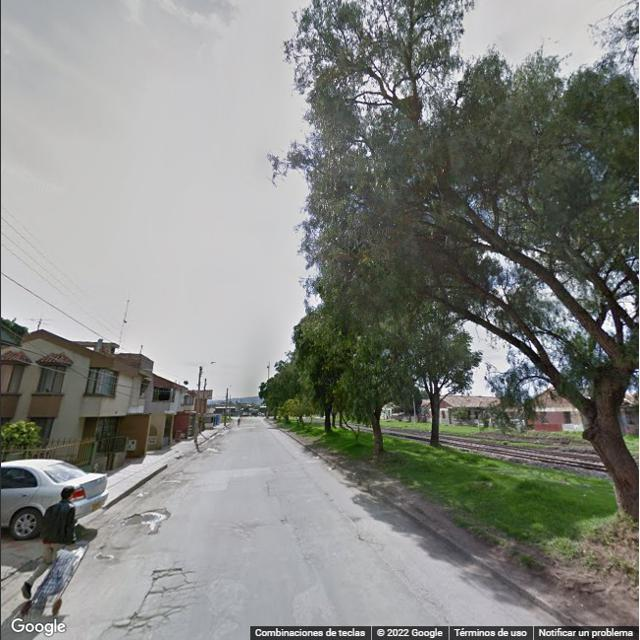D00: (287, 515, 318, 589), (129, 567, 159, 615)
D10: (145, 581, 199, 593)
